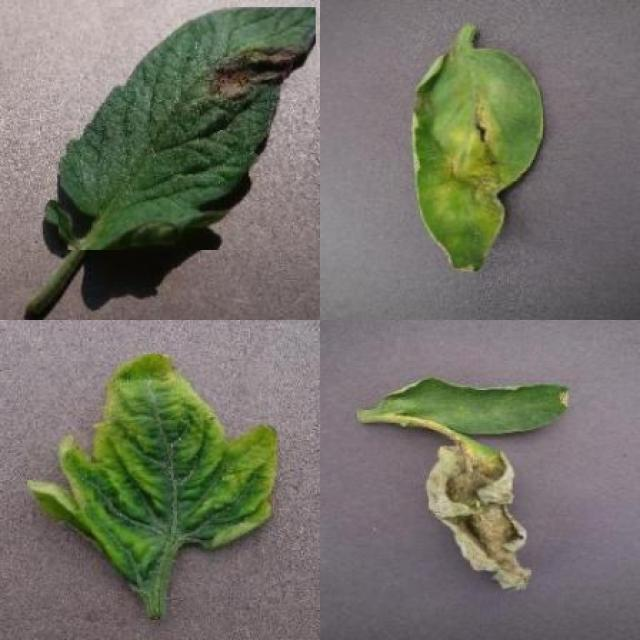Late Blight: (58, 7, 316, 250), (410, 43, 543, 274), (424, 440, 532, 591)
Yellow Leaf Curl Virus: (27, 354, 277, 592)
